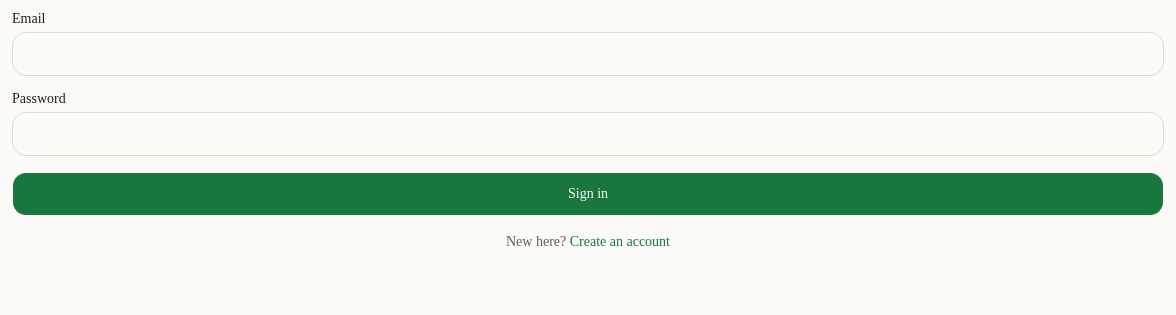
Test: LoginForm › tells the person how long to wait when rate limited
What coordinates should you click on to do the following:
click the button "Sign in"
I would click on:
 (588, 194)
Its box is 12,172 -> 1164,216.
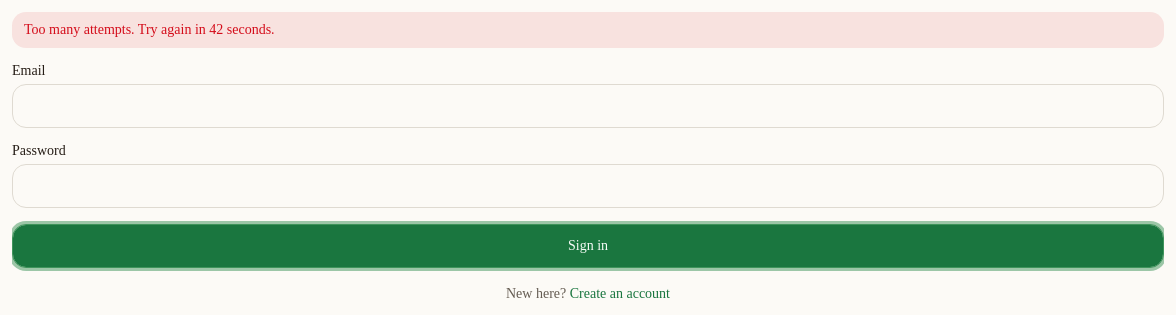
Result: the message shows "Try again in 42 seconds." at 24,22 -> 275,37
